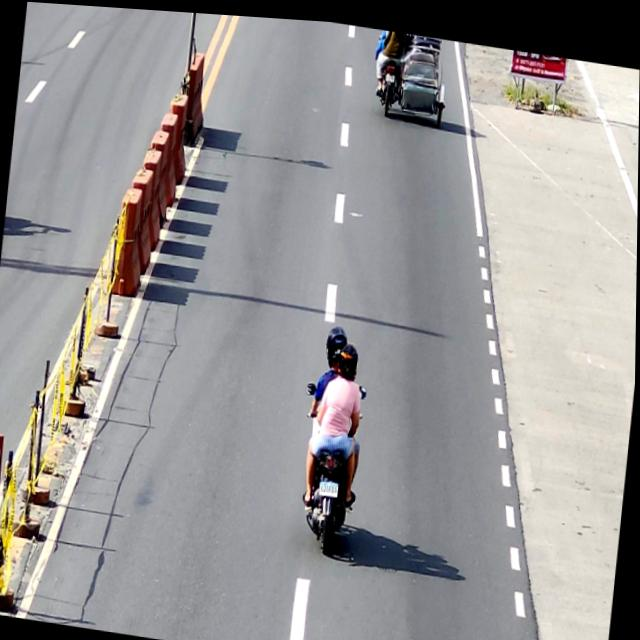License-Plate: (316, 470, 343, 498)
Motorcycle: (290, 371, 368, 555)
Tricycle: (373, 24, 451, 123)
